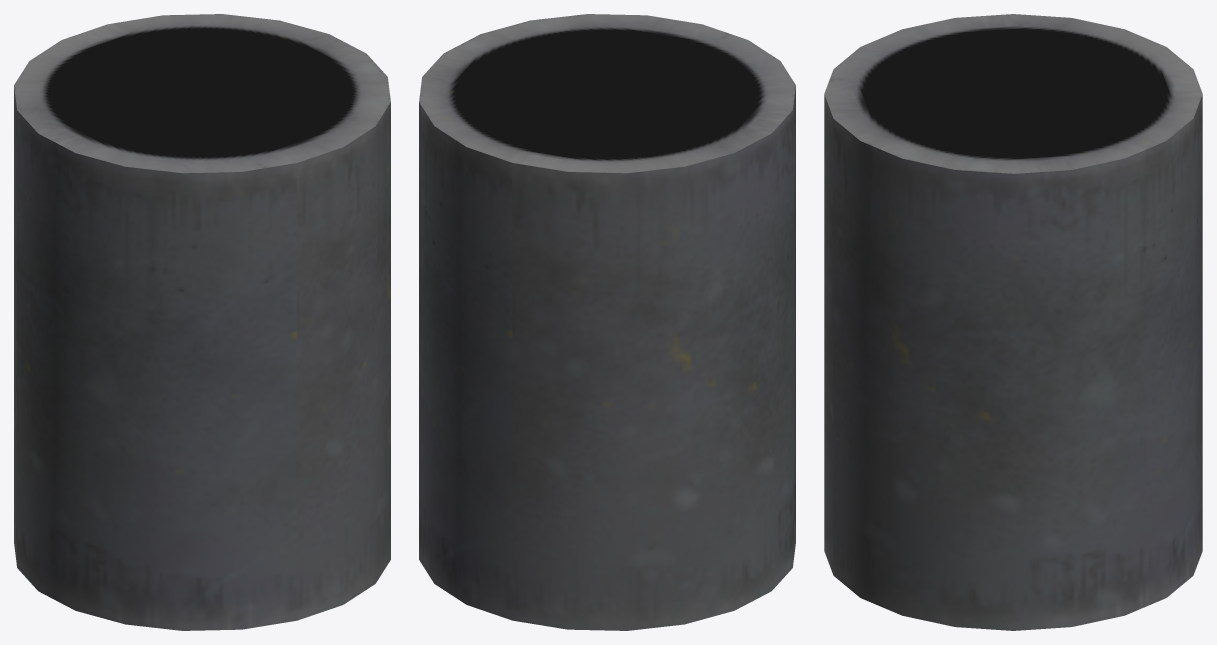
Rendered from PlasticPipe_06a_snaps019.fbx.
3 views of the same model, side by side, from view 1: azimuth 30°, elevation 25°; view 2: azimuth 150°, elevation 25°; view 3: azimuth 270°, elevation 25° (orthographic).
Parts seen in each view (by area): view 1: PlasticPipe_06a_snaps019_LOD0; view 2: PlasticPipe_06a_snaps019_LOD0; view 3: PlasticPipe_06a_snaps019_LOD0.
Boxes of the visible parts, <box> form: PlasticPipe_06a_snaps019_LOD0: <box>14,14,390,630</box>; PlasticPipe_06a_snaps019_LOD0: <box>419,14,795,630</box>; PlasticPipe_06a_snaps019_LOD0: <box>824,14,1202,630</box>.
Size of what is drawn, in the model's own units: 18.76 by 25 by 18.76.
